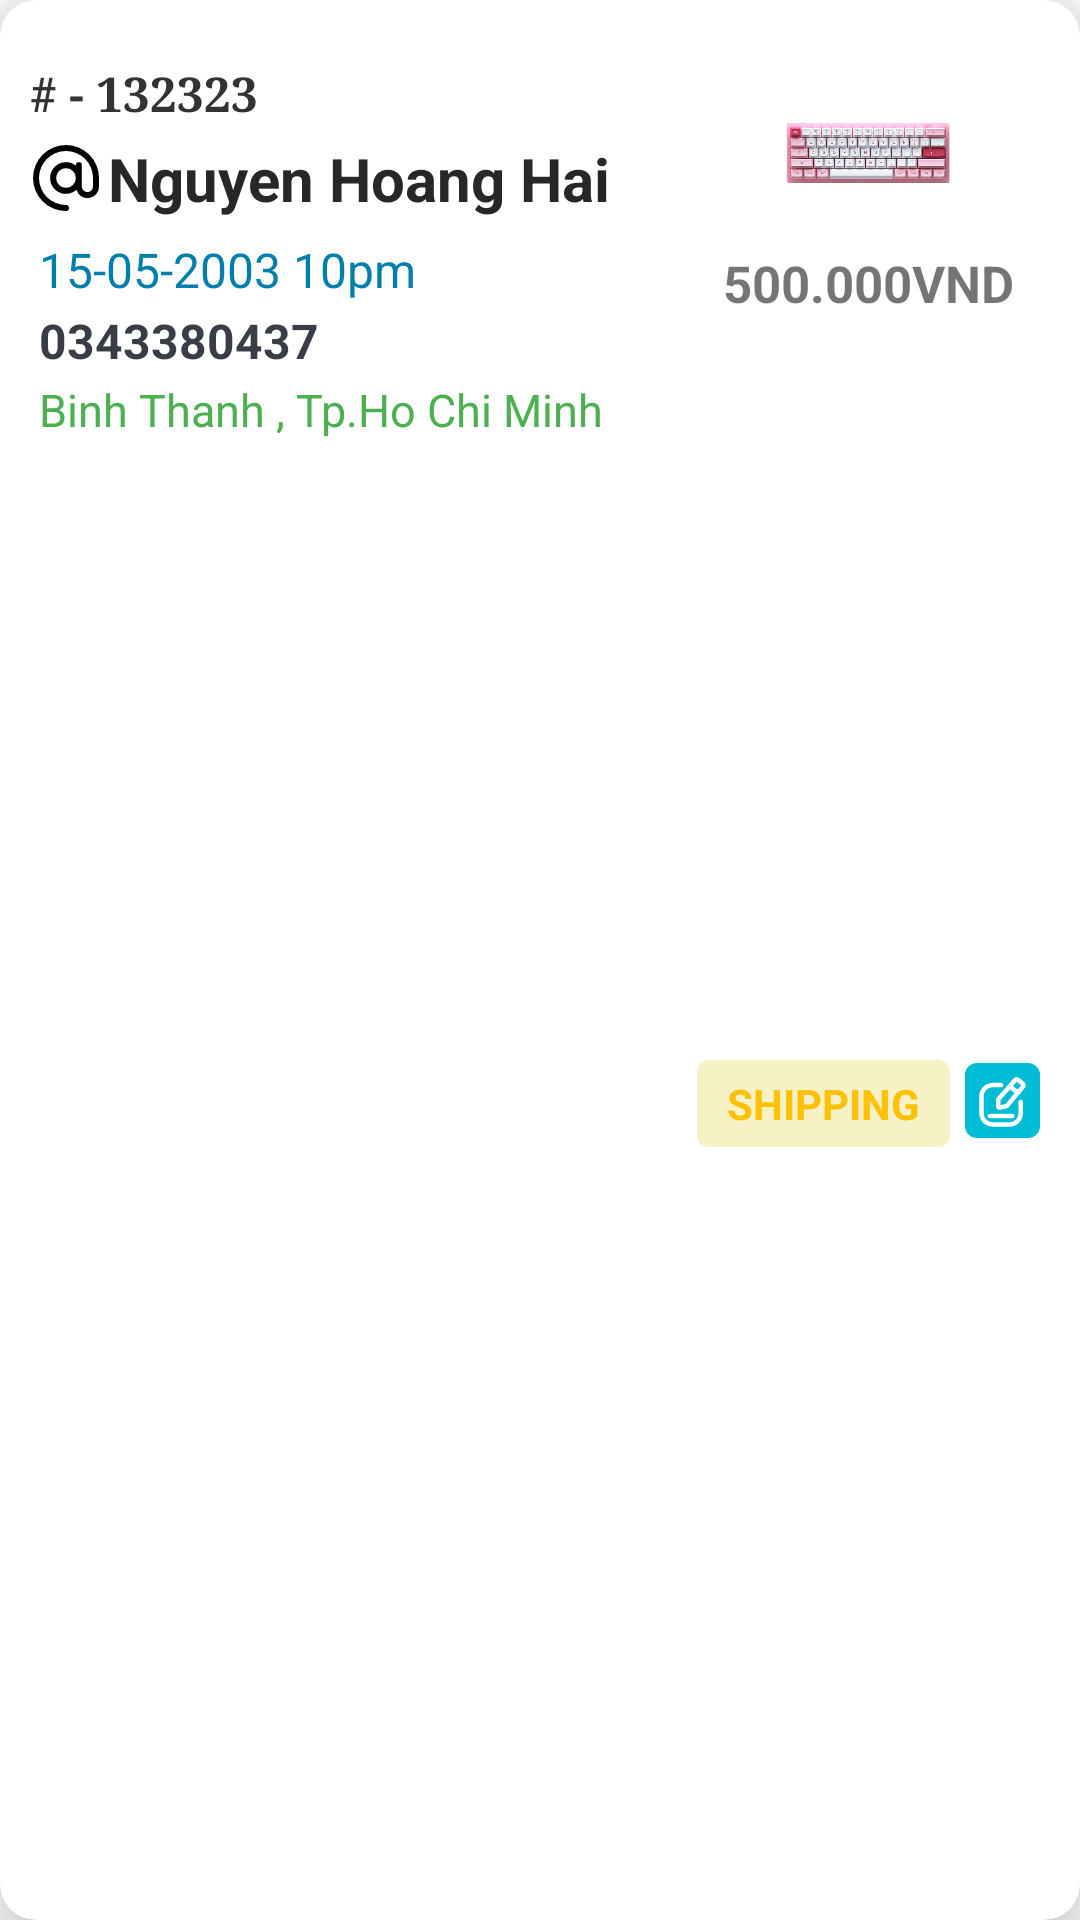

Screen size 1080*1920. Icon name, then its box in pixels as (x1, y1, x2, y2):
akko: (787, 123, 950, 183)
edit: (965, 1063, 1040, 1138)
username: (33, 145, 99, 211)
